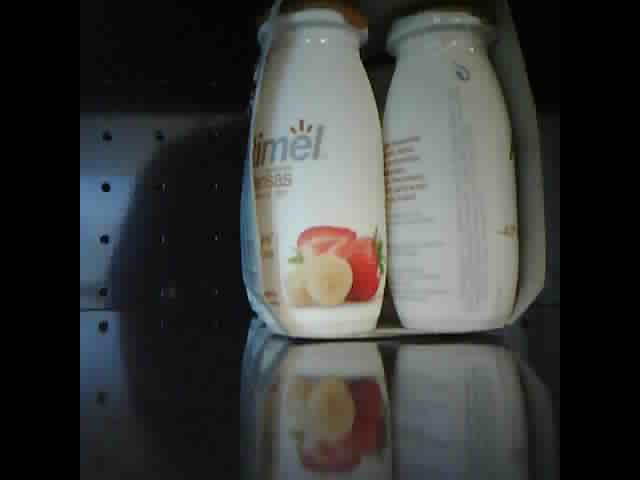actimel: (244, 1, 546, 341)
